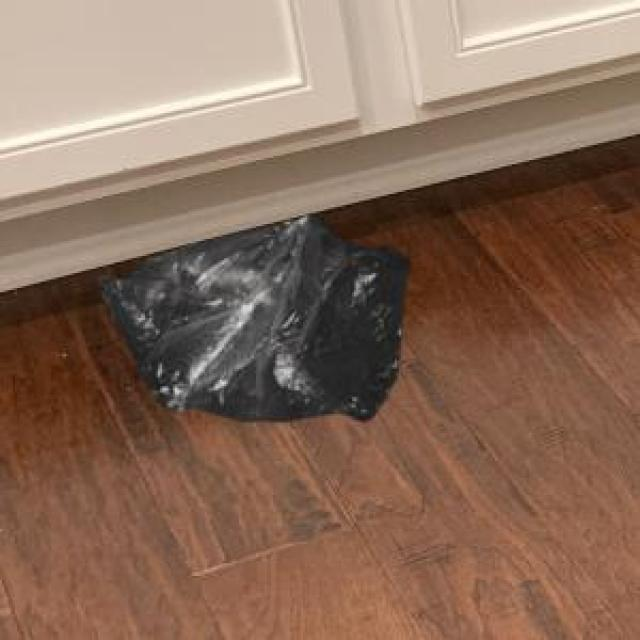plastic: (87, 164, 435, 439)
